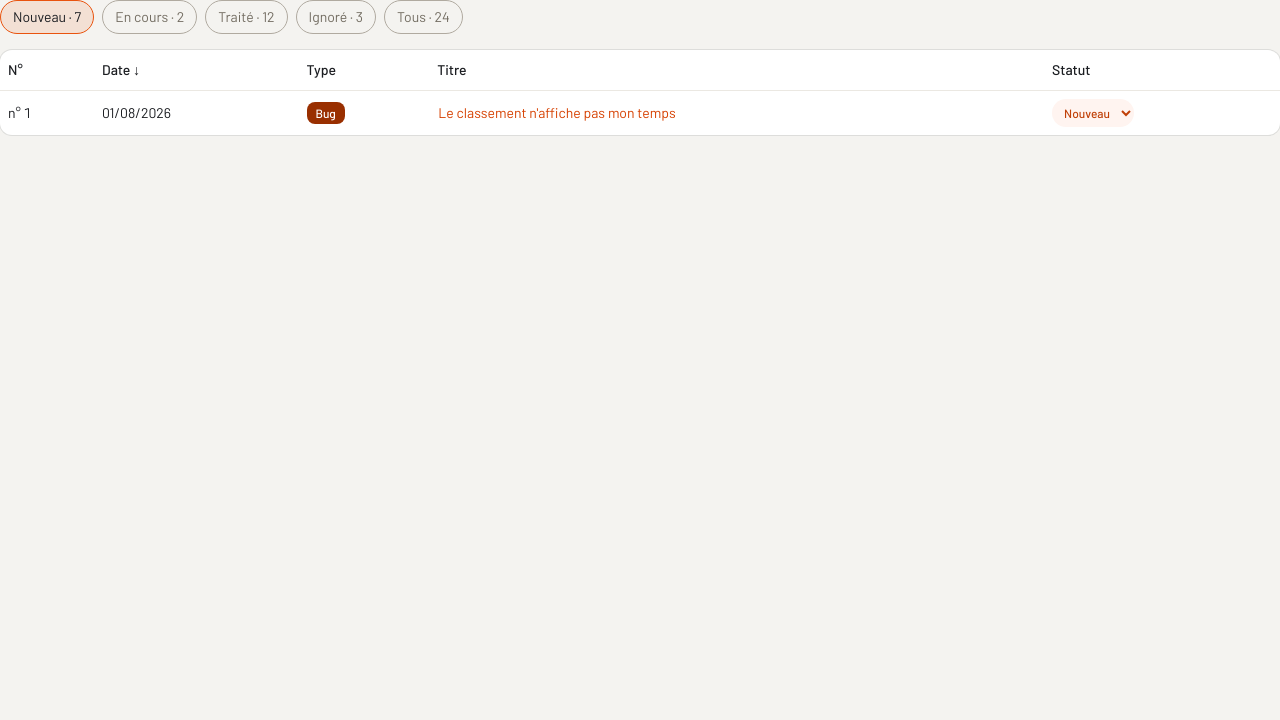
FeedbackTable › statut en ligne › ne fait pas disparaître la modale quand la liste se vide sous elle
Click the button "Le classement n'affiche pas mon temps" at x=557, y=112, box [437,102,677,124]
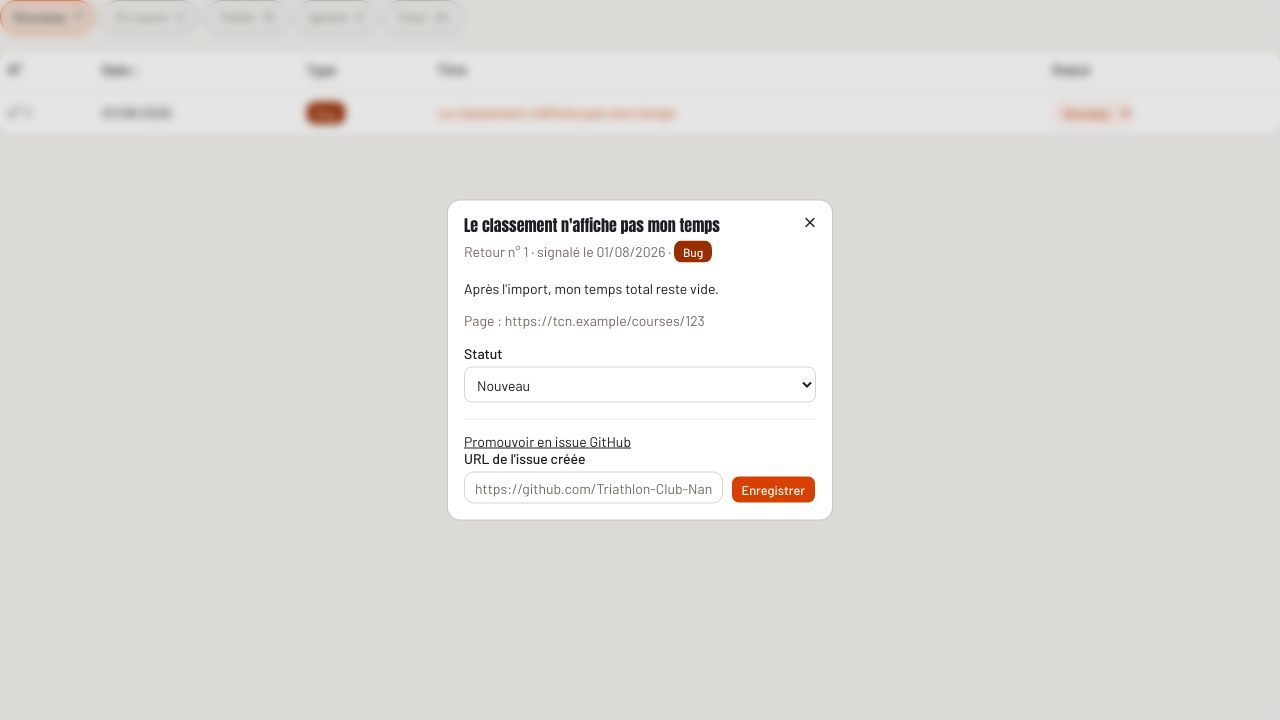
Select "Traité" in the dropdown labelled "Statut" at x=640, y=384, box [464,366,816,402]
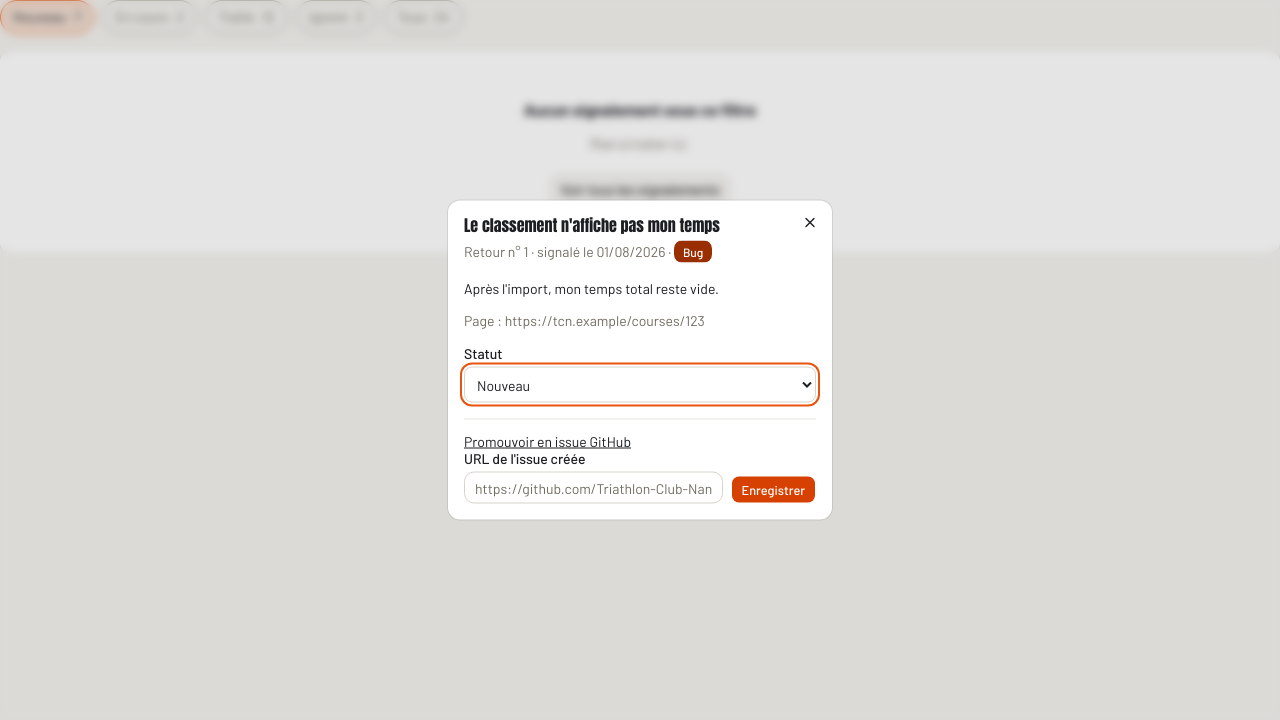
Check: the dialog is shown, box [448,200,832,520]
Check: the text "Aucun signalement sous ce filtre" is shown, box [524,98,756,122]
